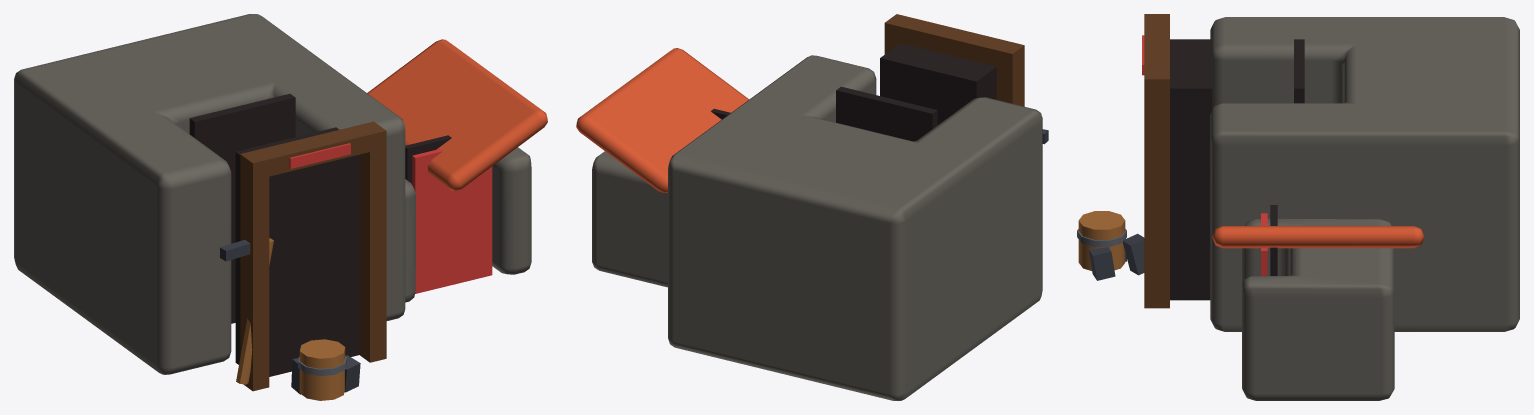
Rendered from Buildings__mine.glb.
The picture shows the model from 3 angles, left to right: view 1: azimuth 30°, elevation 25°; view 2: azimuth 150°, elevation 25°; view 3: azimuth 270°, elevation 25°; orthographic projection. The views are drawn at different scales.
Visible parts, largest first — view 1: mine_mesh; view 2: mine_mesh; view 3: mine_mesh.
Boxes of the visible parts, <box> form: mine_mesh: <box>14,14,547,400</box>; mine_mesh: <box>576,14,1048,400</box>; mine_mesh: <box>1077,14,1519,400</box>.
Bounding box in the file's own units: 2.13 × 1.19 × 2.09.
